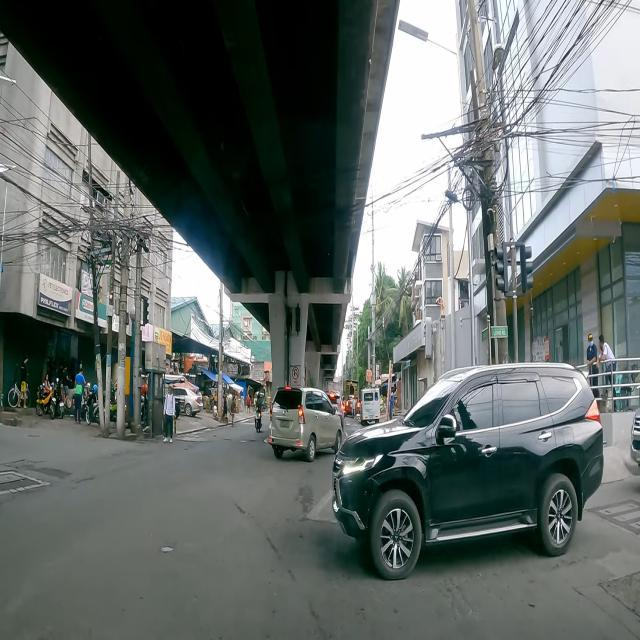bike: (8, 378, 31, 408)
car: (329, 361, 604, 583), (268, 386, 343, 462), (162, 387, 204, 417)
motorcycle: (86, 386, 106, 426), (36, 382, 56, 420), (255, 392, 262, 433), (342, 394, 346, 418)
tricycle: (206, 388, 218, 413), (55, 388, 64, 420)
truck: (344, 380, 358, 400), (326, 381, 342, 396)
